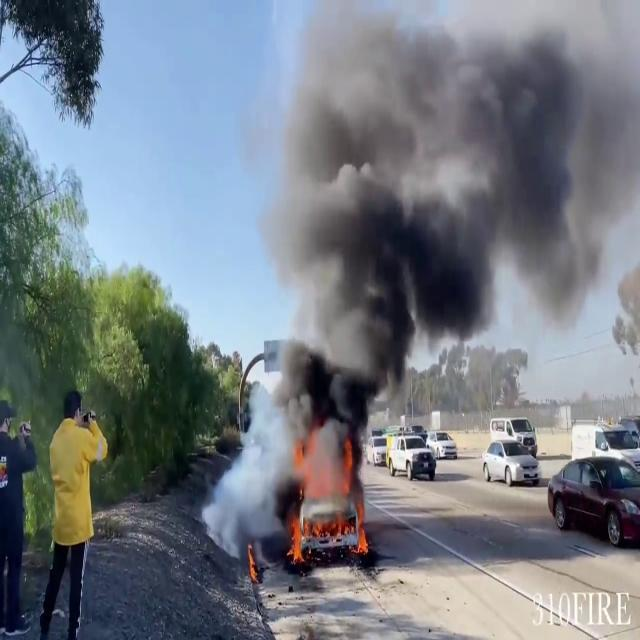Fire: (285, 451, 372, 558)
Smoke: (247, 0, 639, 467), (202, 379, 316, 568)
